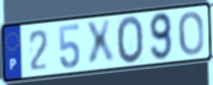2: (28, 29, 49, 73)
5: (58, 22, 81, 71)
9: (148, 11, 174, 63)
O: (115, 15, 145, 67), (177, 10, 205, 58)
X: (83, 18, 116, 69)
